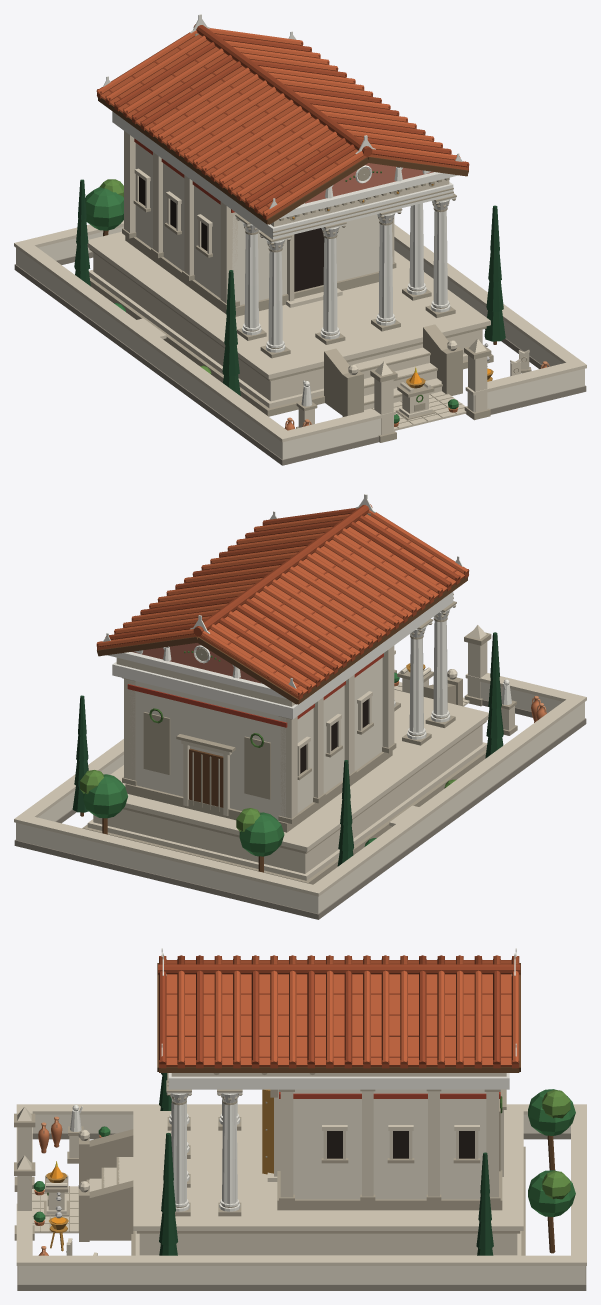
The model's file is Tempel.fbx.
The picture shows the model from 3 angles, top to bottom: view 1: azimuth 30°, elevation 25°; view 2: azimuth 150°, elevation 25°; view 3: azimuth 270°, elevation 25°; orthographic projection. The views are drawn at different scales.
Visible parts, largest first — view 1: Tempel_0; view 2: Tempel_0; view 3: Tempel_0.
Boxes of the visible parts, x1,y1,x2,y2 form: Tempel_0: (14,14,586,465); Tempel_0: (14,494,586,919); Tempel_0: (14,948,586,1290).
Size of the model in its own units: 3.51 by 2.68 by 5.38.
